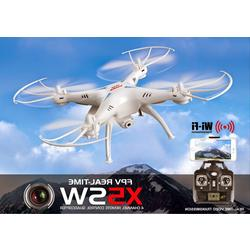drone: (12, 45, 232, 165)
